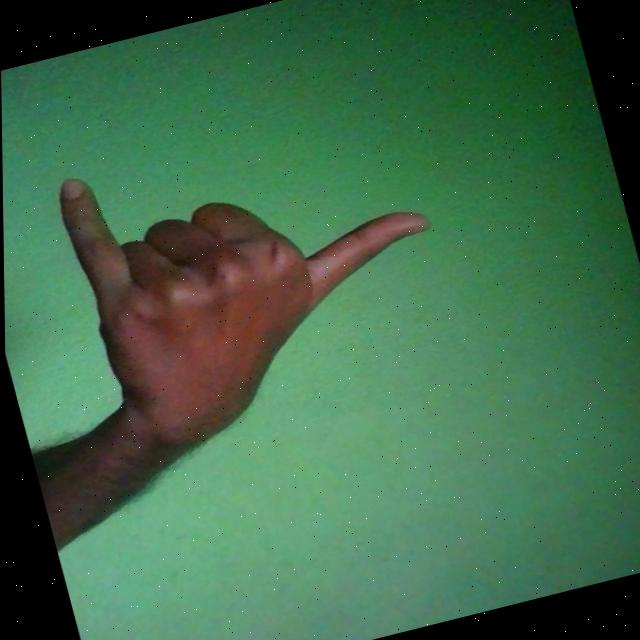Call Me: (47, 98, 470, 470)
